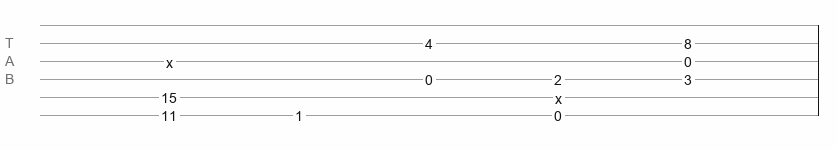0: (425, 72, 433, 82), (554, 108, 562, 118), (684, 54, 692, 64)
1: (295, 108, 303, 118)
11: (161, 108, 177, 118)
15: (161, 90, 177, 100)
2: (554, 72, 562, 82)
3: (684, 72, 692, 82)
4: (425, 36, 433, 46)
8: (684, 36, 692, 46)
x: (166, 55, 173, 63), (555, 91, 562, 99)
